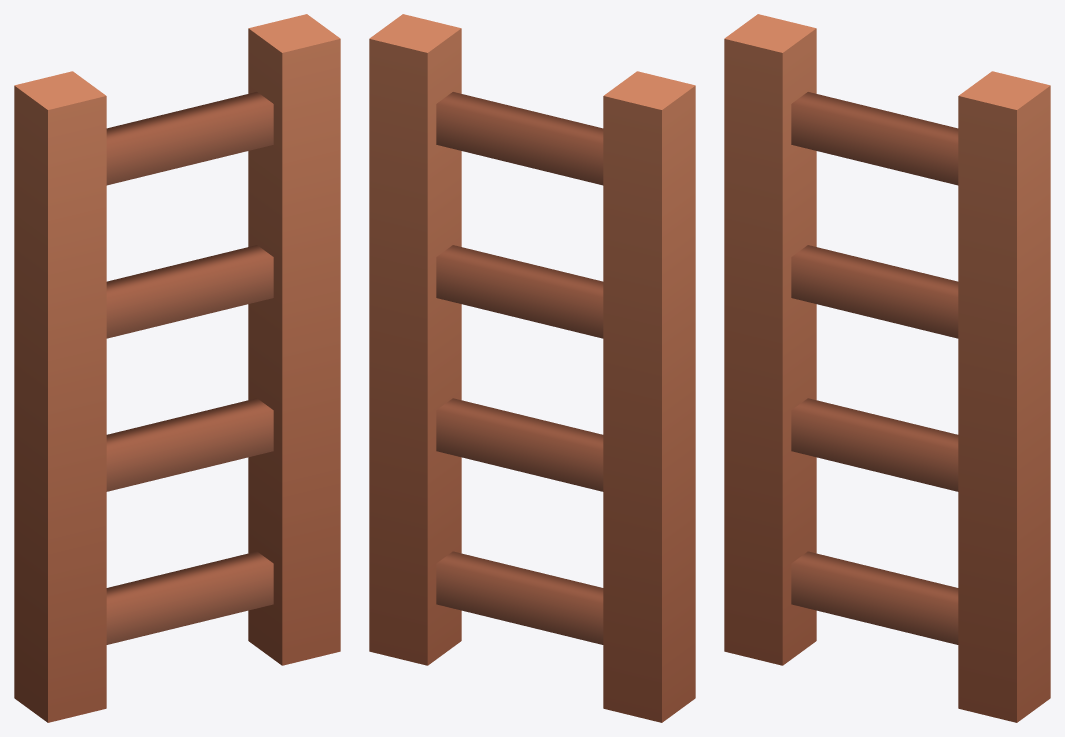
Rendered from ladder.glb.
3 views of the same model, side by side, from view 1: azimuth 30°, elevation 25°; view 2: azimuth 150°, elevation 25°; view 3: azimuth 330°, elevation 25° (orthographic).
Parts seen in each view (by area): view 1: ladder; view 2: ladder; view 3: ladder.
Boxes of the visible parts, x1,y1,x2,y2 form: ladder: (14,14,340,722); ladder: (369,14,695,722); ladder: (724,14,1050,722).
Size of the model in its own units: 0.5 by 1 by 0.1.
1 material, 1 textured.
